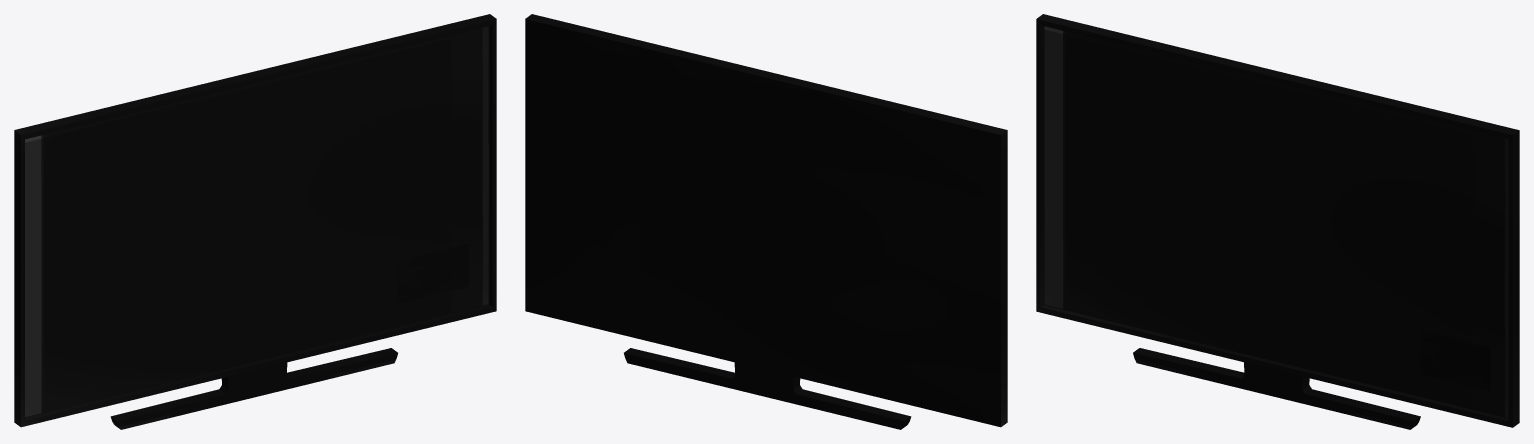
3 views of the same model, side by side, from view 1: azimuth 30°, elevation 25°; view 2: azimuth 150°, elevation 25°; view 3: azimuth 330°, elevation 25° (orthographic).
Visible parts, largest first — view 1: Cube; view 2: Cube; view 3: Cube.
Part boxes in pixels (x1,y1,x2,y2): Cube: [14, 14, 496, 429]; Cube: [525, 14, 1007, 429]; Cube: [1036, 14, 1519, 429].
Size of the model in its own units: 1.76 by 1.13 by 0.0433.
Materials: 1 (1 with a texture image).
